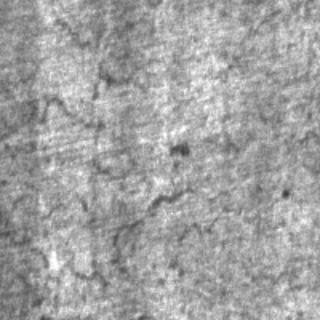crazing: (3, 185, 230, 292), (19, 60, 147, 180)
